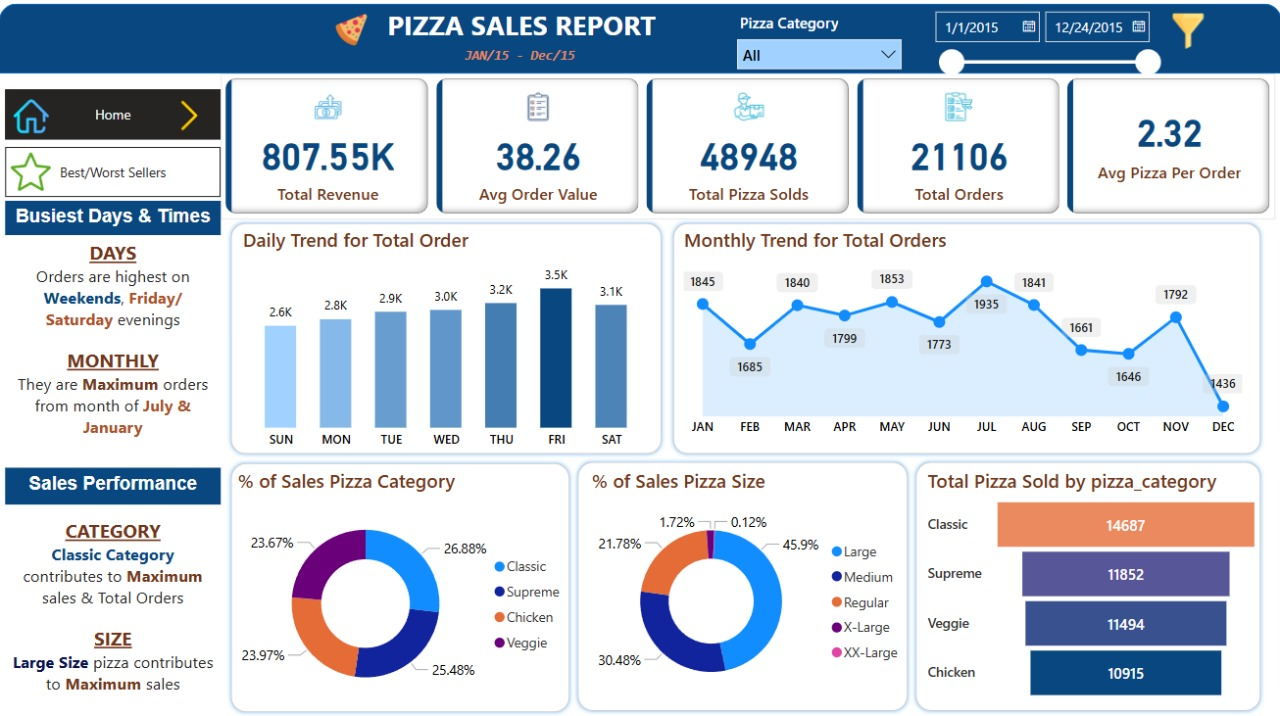

The page's visual inventory and layout, read from the dashboard file:
{"tool":"powerbi","page":{"name":"Home","canvas":[1280,720],"ordinal":0},"visuals":[{"type":"cardVisual","fields":{"Data":["pizza_sales.Total Revenue","pizza_sales.Avg Order Value","pizza_sales.Total Pizza Solds","pizza_sales.Total Orders","pizza_sales.Avg Pizza Per Order"]},"box":[221.3,78.3,1052.9,145.5],"z":0},{"type":"shape","box":[0,8.6,1280.3,69.7],"z":1000},{"type":"textbox","box":[382.7,6.1,286.1,56.3],"z":2000},{"type":"textbox","box":[452.4,45.2,148,34.2],"z":3000},{"type":"image","box":[324.1,13.5,55,42.8],"z":4000},{"type":"shape","box":[227.4,223.8,437.8,238.5],"z":5000},{"type":"columnChart","title":"Daily Trend for Total Order","fields":{"Category":["pizza_sales.Order Day"],"Y":["pizza_sales.Total Orders"]},"box":[238.5,231.1,417,231.1],"z":6000},{"type":"shape","box":[668.9,223.8,594.3,238.5],"z":7000},{"type":"areaChart","title":"Monthly Trend for Total Orders","fields":{"Category":["pizza_sales.Order Month"],"Y":["pizza_sales.Total Orders"]},"box":[678.7,231.1,567.4,218.9],"z":8000},{"type":"shape","box":[227.4,463.5,346.1,256.8],"z":9000},{"type":"shape","box":[573.5,462.2,337.5,256.8],"z":10000},{"type":"shape","box":[911,462.2,352.2,256.8],"z":11000},{"type":"pageNavigator","box":[6.1,94.2,215.2,50.1],"z":11250},{"type":"image","box":[170,97.8,40.4,44],"z":11500},{"type":"donutChart","title":"% of Sales Pizza Category","fields":{"Category":["pizza_sales.pizza_category"],"Y":["pizza_sales.Total Revenue"]},"box":[233.6,472,339.9,247],"z":12000},{"type":"donutChart","title":"% of Sales Pizza Size","fields":{"Y":["pizza_sales.Total Revenue"],"Category":["pizza_sales.pizza_size"]},"box":[587,472,324.1,242.1],"z":13000},{"type":"funnel","title":"Total Pizza Sold by pizza_category","fields":{"Category":["pizza_sales.pizza_category"],"Y":["pizza_sales.Total Pizza Solds"]},"box":[922,472,341.2,237.2],"z":14000},{"type":"textbox","box":[6.1,205.4,215.2,34.2],"z":15000},{"type":"textbox","box":[6.1,239.7,215.2,220.1],"z":16000},{"type":"textbox","box":[6.1,472,215.2,36.7],"z":17000},{"type":"textbox","box":[6.1,517.3,215.2,203],"z":18000},{"type":"slicer","fields":{"Values":["pizza_sales.pizza_category"]},"box":[726.4,12.2,184.6,62],"z":19000},{"type":"slicer","fields":{"Values":["pizza_sales.order_date"]},"box":[922,6.1,249.5,88],"z":20000},{"type":"image","box":[1162.9,13.5,47.7,45],"z":21000},{"type":"pageNavigator","box":[6.1,151.6,215.2,50.1],"z":24000},{"type":"image","box":[9.8,97.8,45.2,46.5],"z":24001},{"type":"image","box":[6.1,151.6,51.4,50.1],"z":24002}]}

Visuals, with their boxes in screenshot pixels (x1, y1, x2, y2), scaled from the page's 1280x720 canvas onto the 1280x716 screenshot:
cardVisual - pizza_sales.Total Revenue x pizza_sales.Avg Order Value: (x1=221, y1=78, x2=1274, y2=223)
shape: (x1=0, y1=9, x2=1279, y2=78)
textbox: (x1=383, y1=6, x2=669, y2=62)
textbox: (x1=452, y1=45, x2=600, y2=79)
image: (x1=324, y1=13, x2=379, y2=56)
shape: (x1=227, y1=223, x2=665, y2=460)
"Daily Trend for Total Order" columnChart: (x1=238, y1=230, x2=656, y2=460)
shape: (x1=669, y1=223, x2=1263, y2=460)
"Monthly Trend for Total Orders" areaChart: (x1=679, y1=230, x2=1246, y2=448)
shape: (x1=227, y1=461, x2=574, y2=715)
shape: (x1=574, y1=460, x2=911, y2=715)
shape: (x1=911, y1=460, x2=1263, y2=715)
pageNavigator: (x1=6, y1=94, x2=221, y2=143)
image: (x1=170, y1=97, x2=210, y2=141)
"% of Sales Pizza Category" donutChart: (x1=234, y1=469, x2=574, y2=715)
"% of Sales Pizza Size" donutChart: (x1=587, y1=469, x2=911, y2=710)
"Total Pizza Sold by pizza_category" funnel: (x1=922, y1=469, x2=1263, y2=705)
textbox: (x1=6, y1=204, x2=221, y2=238)
textbox: (x1=6, y1=238, x2=221, y2=457)
textbox: (x1=6, y1=469, x2=221, y2=506)
textbox: (x1=6, y1=514, x2=221, y2=715)
slicer - pizza_sales.pizza_category: (x1=726, y1=12, x2=911, y2=74)
slicer - pizza_sales.order_date: (x1=922, y1=6, x2=1172, y2=94)
image: (x1=1163, y1=13, x2=1211, y2=58)
pageNavigator: (x1=6, y1=151, x2=221, y2=201)
image: (x1=10, y1=97, x2=55, y2=143)
image: (x1=6, y1=151, x2=58, y2=201)
